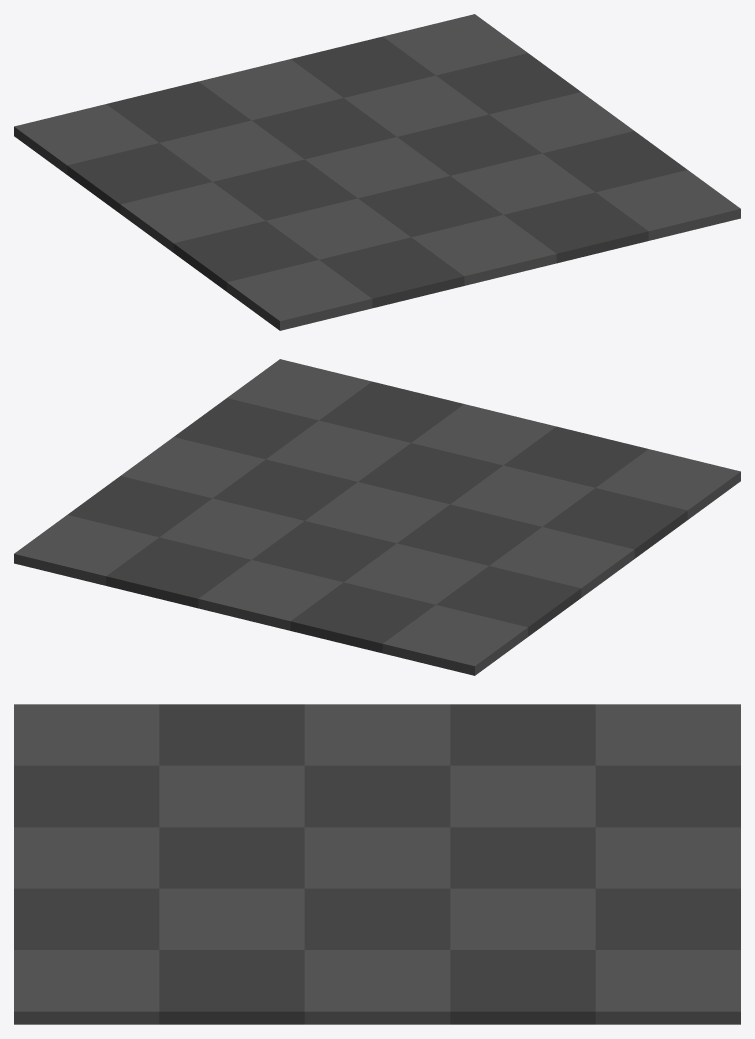
The model's file is Hallway floor 2.obj.
The picture shows the model from 3 angles, top to bottom: view 1: azimuth 30°, elevation 25°; view 2: azimuth 150°, elevation 25°; view 3: azimuth 270°, elevation 25°; orthographic projection. The views are drawn at different scales.
Bounding box in the file's own units: 50 × 1 × 50.
